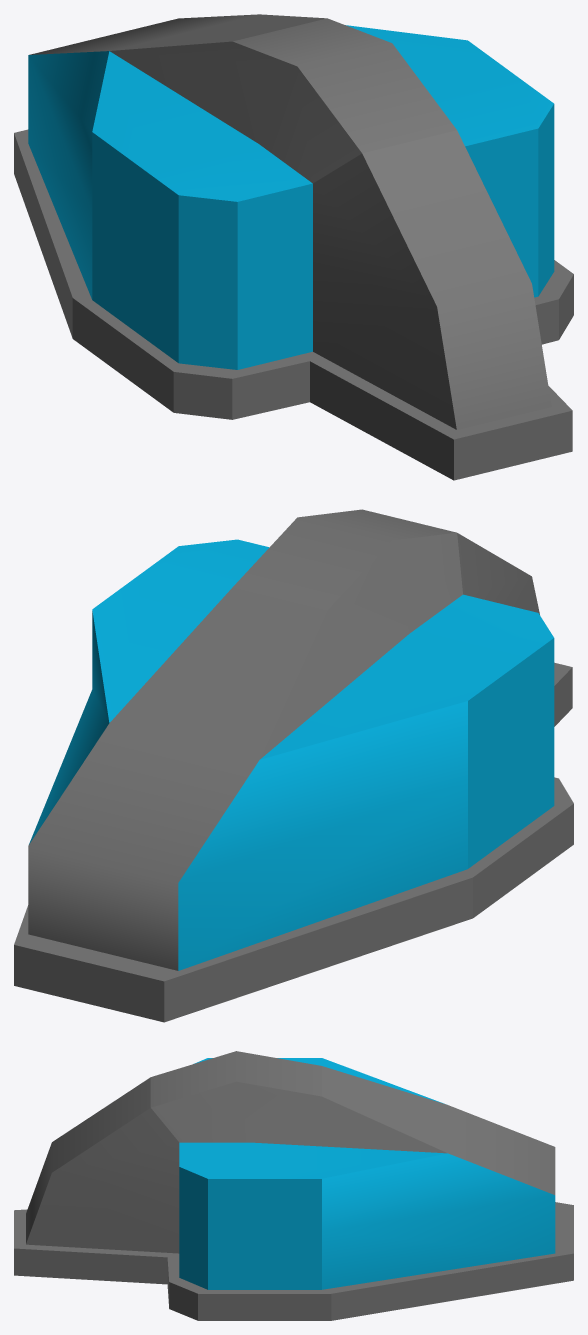
File: _1Ship_PIece15.fbx
3 views of the same model, one above another, from view 1: azimuth 30°, elevation 25°; view 2: azimuth 150°, elevation 25°; view 3: azimuth 270°, elevation 25° (orthographic). The views are drawn at different scales.
Parts seen in each view (by area): view 1: Ship_PIece15; view 2: Ship_PIece15; view 3: Ship_PIece15.
Boxes of the visible parts, x1,y1,x2,y2 form: Ship_PIece15: [14, 14, 573, 480]; Ship_PIece15: [14, 509, 573, 1022]; Ship_PIece15: [14, 1051, 573, 1320].
Bounding box in the file's own units: 268 × 184 × 491.
